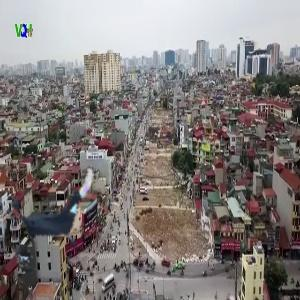drone: (3, 159, 107, 263)
